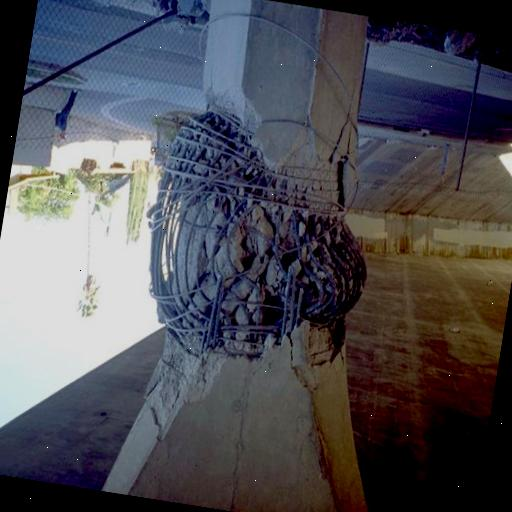spalling: (138, 100, 391, 376)
